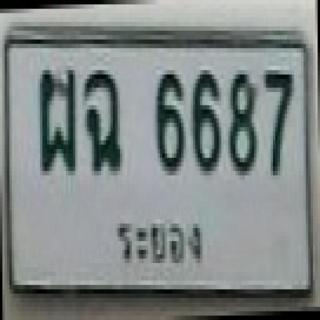A09: (80, 63, 132, 178)
A28: (35, 62, 81, 179)
N06: (149, 66, 187, 180), (189, 67, 224, 178)
N07: (262, 68, 299, 179)
N08: (224, 69, 264, 178)
P53: (113, 214, 209, 271)
